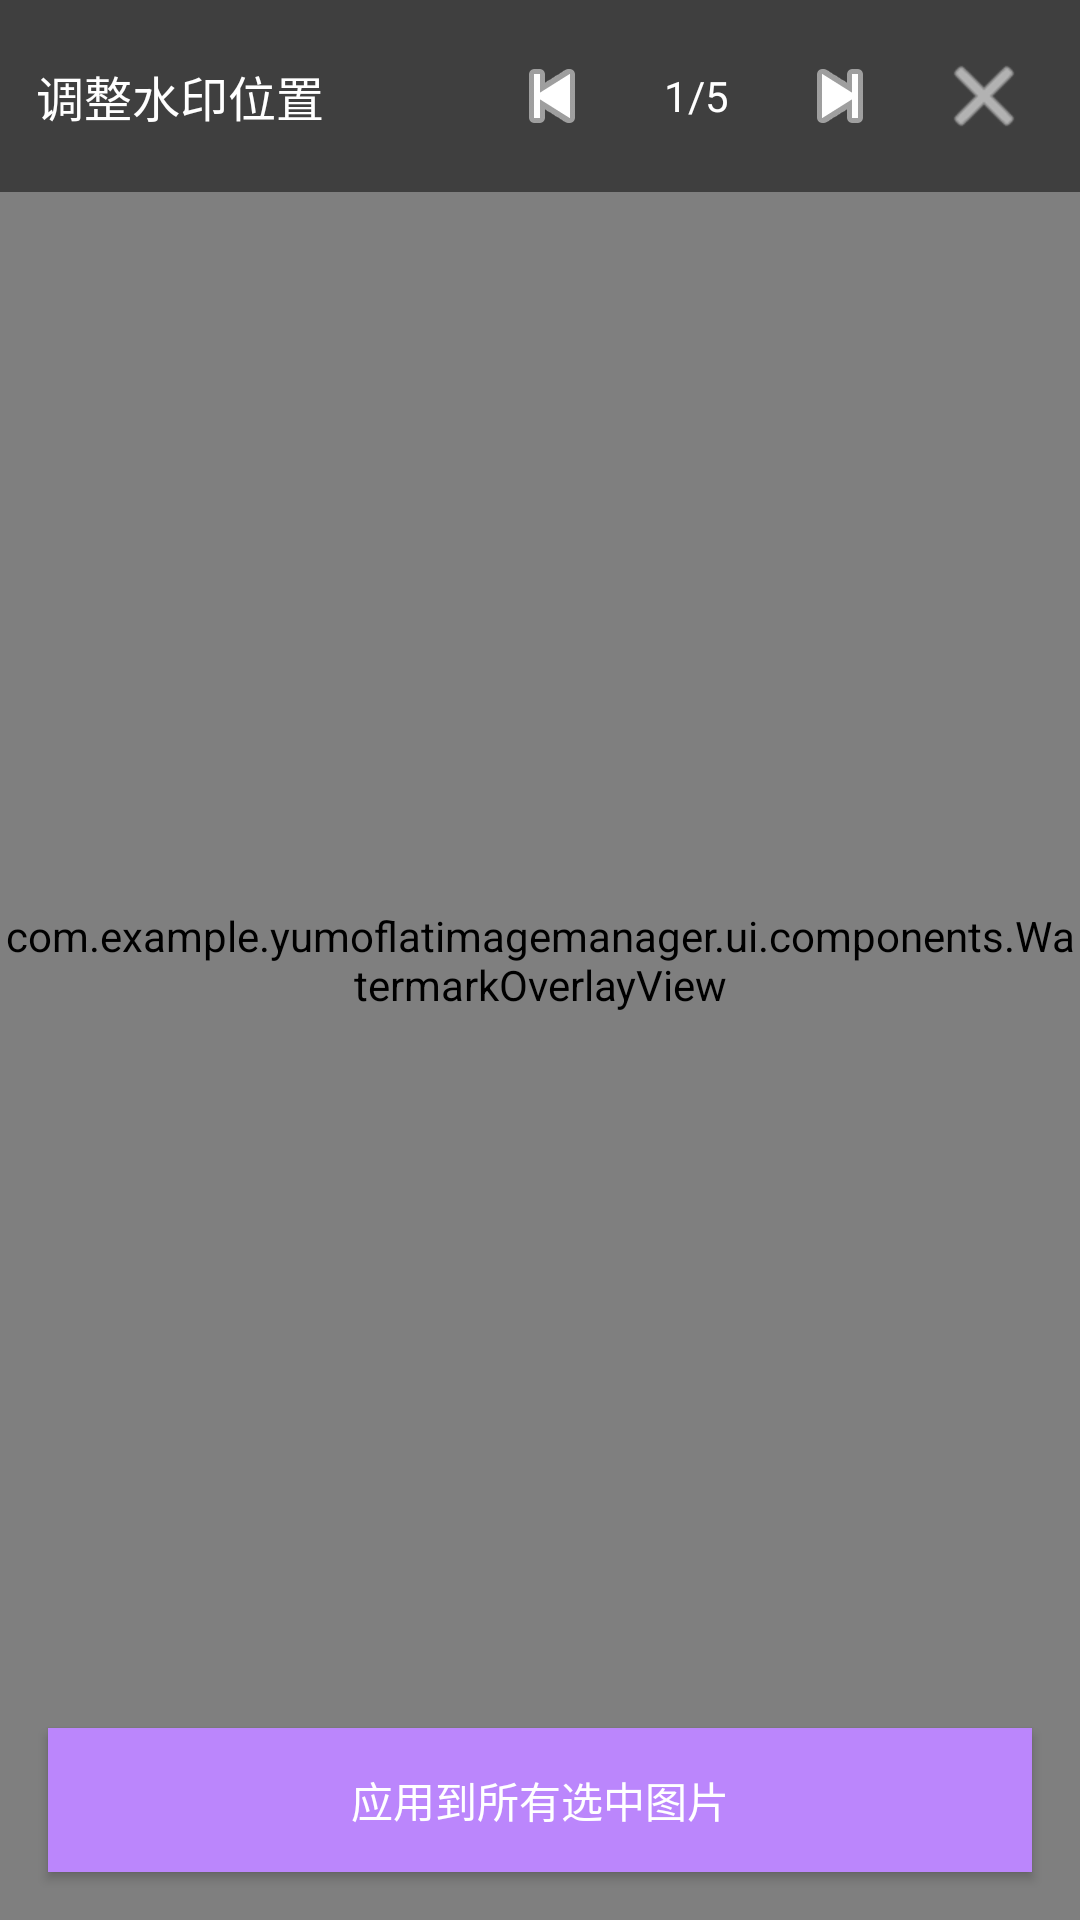

Where icons sit on this 1080×1920 app screen, as (left=x1, top=y1, right=x2, bottom=y2):
close clear cancel: (left=954, top=66, right=1014, bottom=126)
next: (left=817, top=69, right=863, bottom=123)
previous: (left=529, top=69, right=575, bottom=123)
